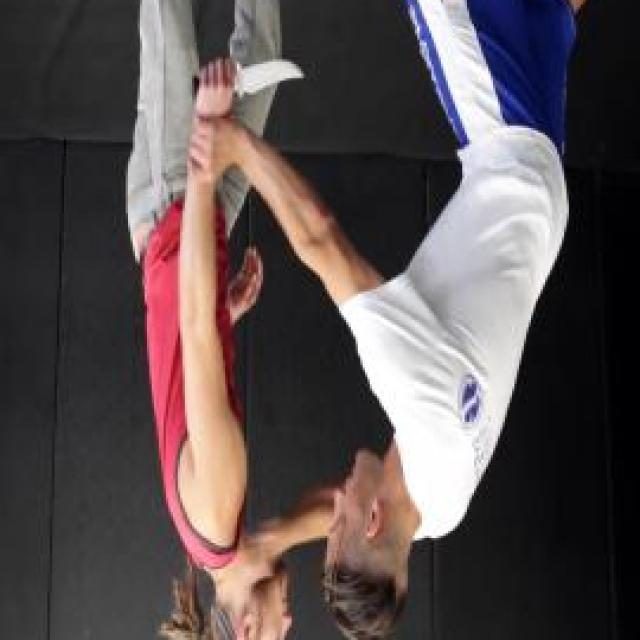knife: (185, 40, 313, 114)
